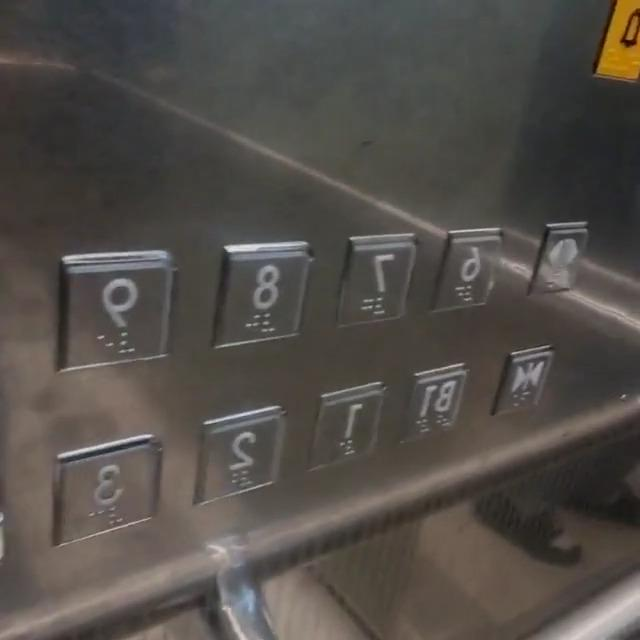button: (65, 258, 172, 377), (53, 436, 162, 552), (214, 245, 307, 354), (196, 409, 286, 501), (339, 235, 413, 330), (317, 382, 383, 462), (441, 233, 505, 313), (407, 365, 467, 437), (533, 229, 588, 302), (594, 4, 640, 79), (498, 352, 548, 414)
